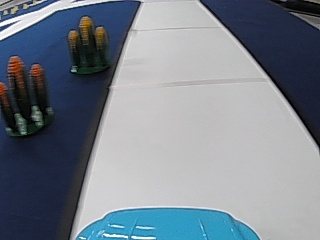corn: (1, 62, 53, 139), (65, 13, 113, 76)
